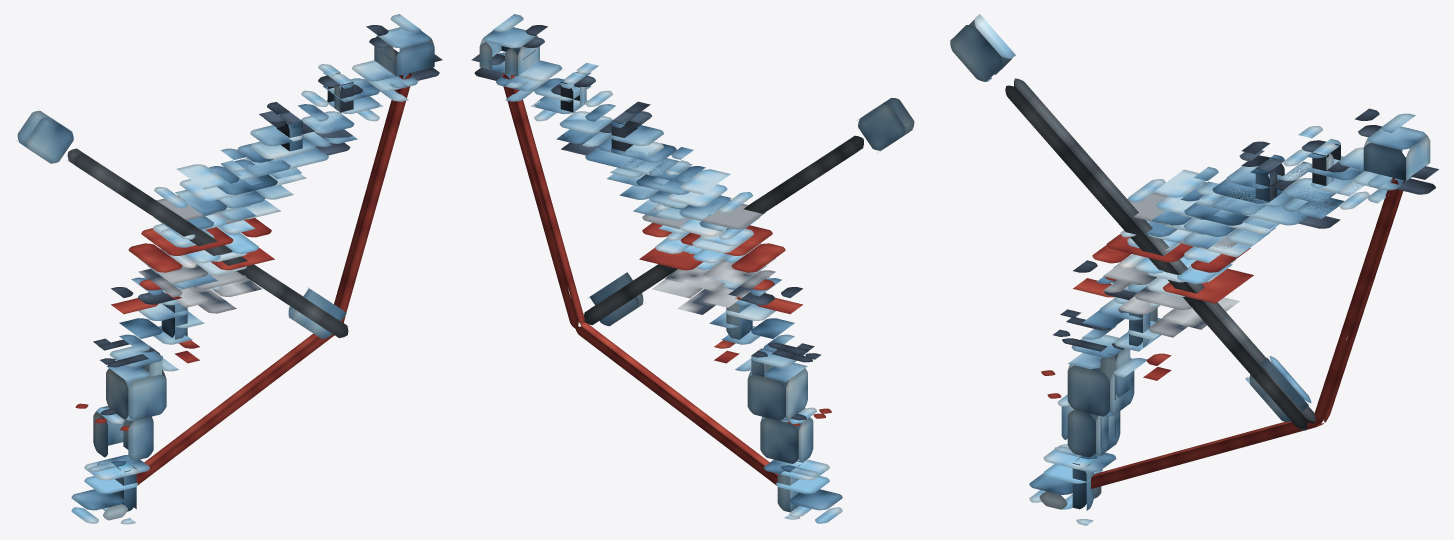
The model's file is hoarfrost_bow_pulling_2.obj.
3 views of the same model, side by side, from view 1: azimuth 30°, elevation 25°; view 2: azimuth 150°, elevation 25°; view 3: azimuth 330°, elevation 25° (orthographic). The views are drawn at different scales.
Visible parts, largest first — view 1: lit, fire; view 2: lit, fire; view 3: lit, fire.
Boxes of the visible parts, box(x1,y1,x2,y2) form: lit: box(16, 14, 442, 524); fire: box(153, 190, 346, 339); lit: box(471, 14, 914, 523); fire: box(588, 195, 761, 326); lit: box(950, 14, 1438, 525); fire: box(1119, 210, 1311, 421).
Size of the model in its own units: 1.04 by 1.02 by 0.1689.
